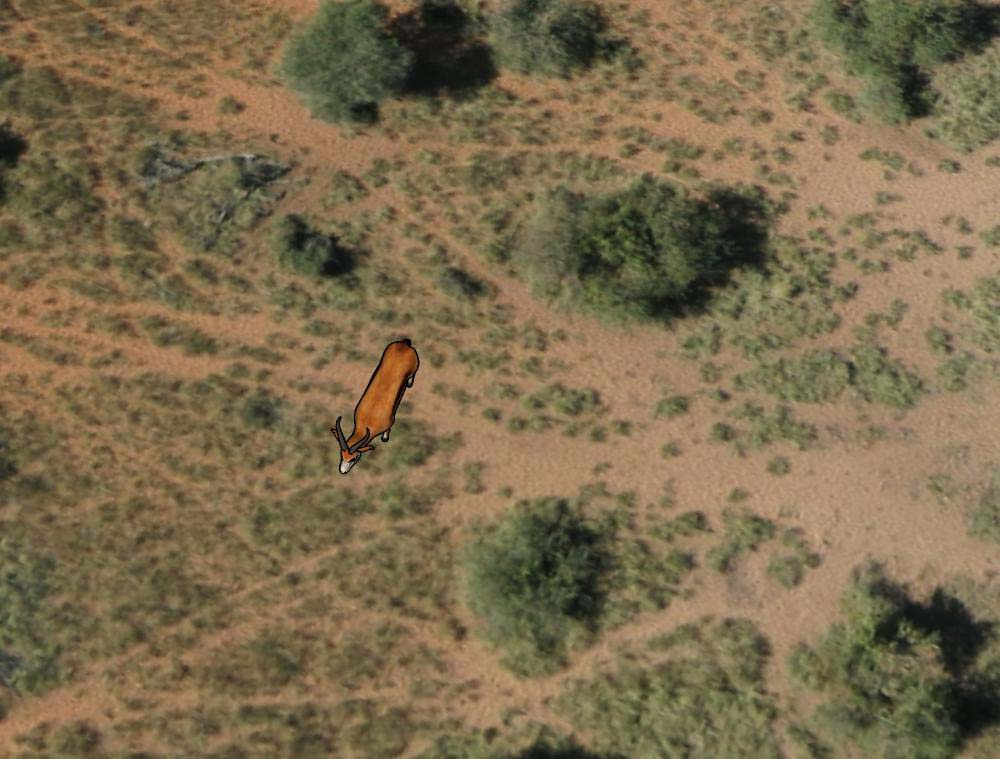springbok: (329, 336, 424, 475)
